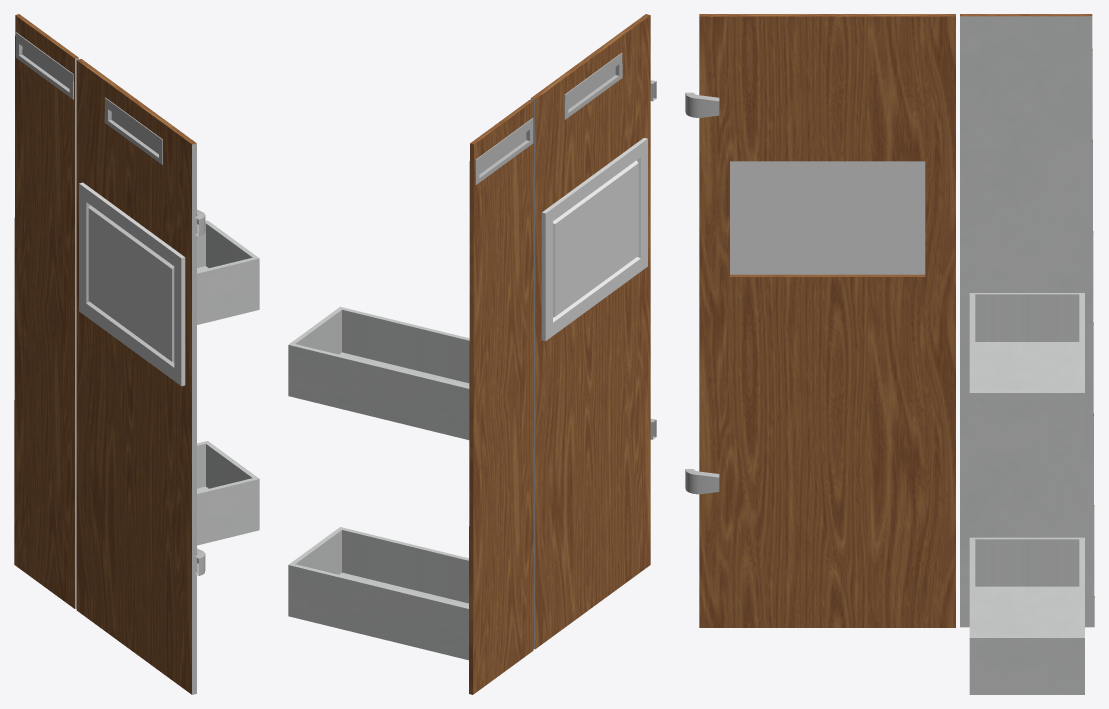
The model's file is Vagon_body_inner_CR_doors.fbx.
3 renders of one model, left to right at view 1: azimuth 30°, elevation 25°; view 2: azimuth 150°, elevation 25°; view 3: azimuth 270°, elevation 25°, orthographic. The views are drawn at different scales.
Parts seen in each view (by area): view 1: Vagon_body_inner_CR_01_door1, Vagon_body_inner_CR_01._door2, Vagon_CR_Details_01.002; view 2: Vagon_body_inner_CR_01._door2, Vagon_body_inner_CR_01_door1, Vagon_CR_Details_01.002; view 3: Vagon_body_inner_CR_01_door1, Vagon_body_inner_CR_01._door2, Vagon_CR_Details_01.002.
Part boxes in pixels (left/top/right/bottom): Vagon_body_inner_CR_01_door1: left=76, top=59, right=205, bottom=694; Vagon_body_inner_CR_01._door2: left=14, top=14, right=259, bottom=608; Vagon_CR_Details_01.002: left=79, top=182, right=185, bottom=386; Vagon_body_inner_CR_01._door2: left=288, top=100, right=533, bottom=694; Vagon_body_inner_CR_01_door1: left=530, top=14, right=656, bottom=649; Vagon_CR_Details_01.002: left=541, top=138, right=647, bottom=341; Vagon_body_inner_CR_01_door1: left=685, top=14, right=955, bottom=627; Vagon_body_inner_CR_01._door2: left=960, top=14, right=1094, bottom=694; Vagon_CR_Details_01.002: left=730, top=161, right=925, bottom=274.
Bounding box in the file's own units: 0.2524 × 0.687 × 0.4169.
